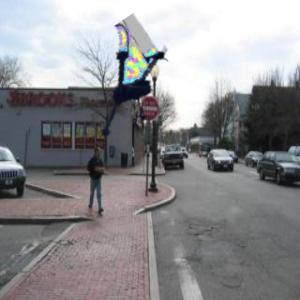drone: (65, 32, 187, 154)
